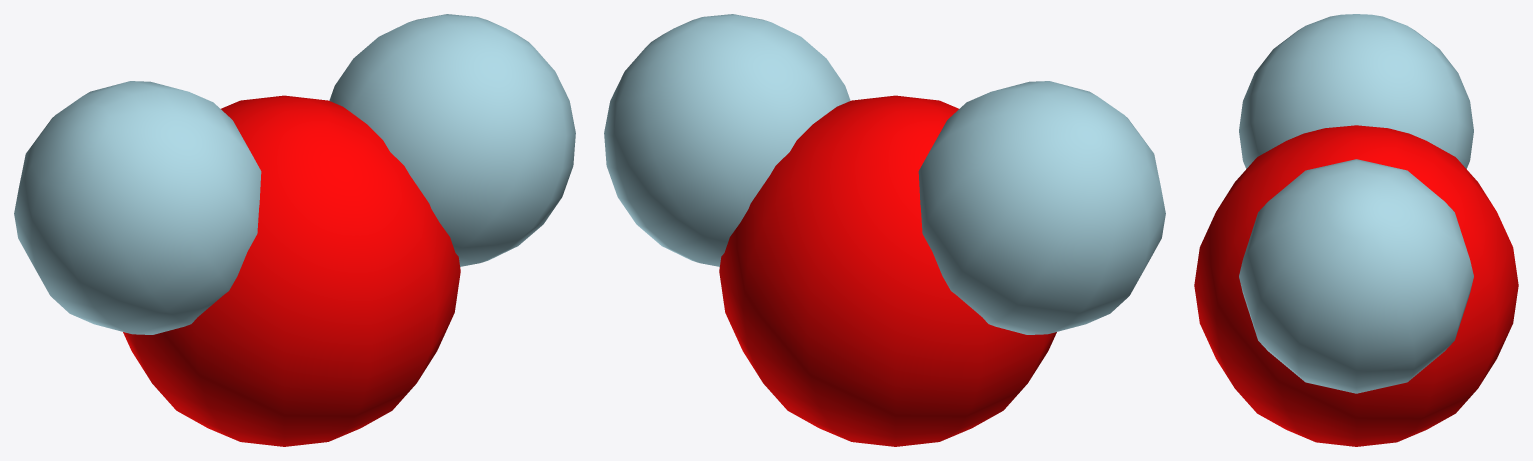
The model's file is water.fbx.
3 renders of one model, left to right at view 1: azimuth 30°, elevation 25°; view 2: azimuth 150°, elevation 25°; view 3: azimuth 270°, elevation 25°, orthographic. The views are drawn at different scales.
Parts seen in each view (by area): view 1: H20; view 2: H20; view 3: H20.
Part boxes in pixels (x1=…): H20: x1=14, y1=14, x2=575, y2=446; H20: x1=604, y1=14, x2=1165, y2=446; H20: x1=1194, y1=14, x2=1518, y2=446.
Size of the model in its own units: 3.54 by 2.39 by 2.05.
Materials: 1 (1 with a texture image).
